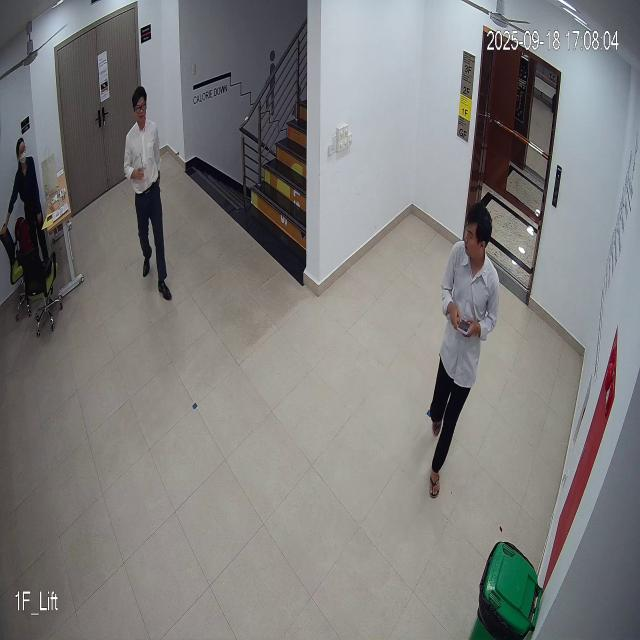face: (462, 201, 492, 261)
